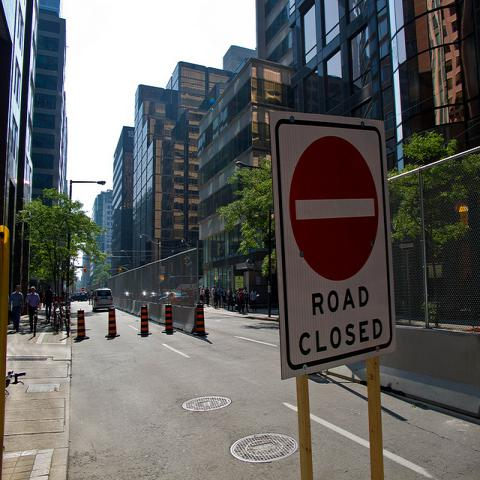car: (92, 288, 114, 312), (164, 292, 189, 306), (69, 292, 88, 302)
